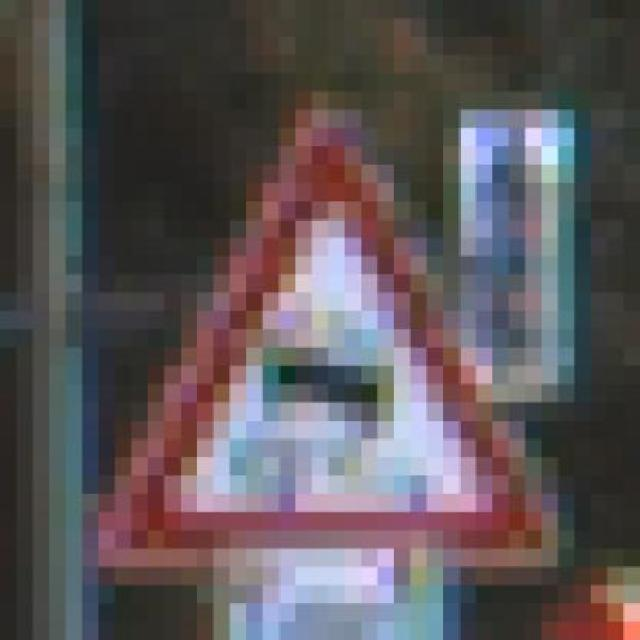Slippery Road Ahead: (66, 73, 574, 585)
